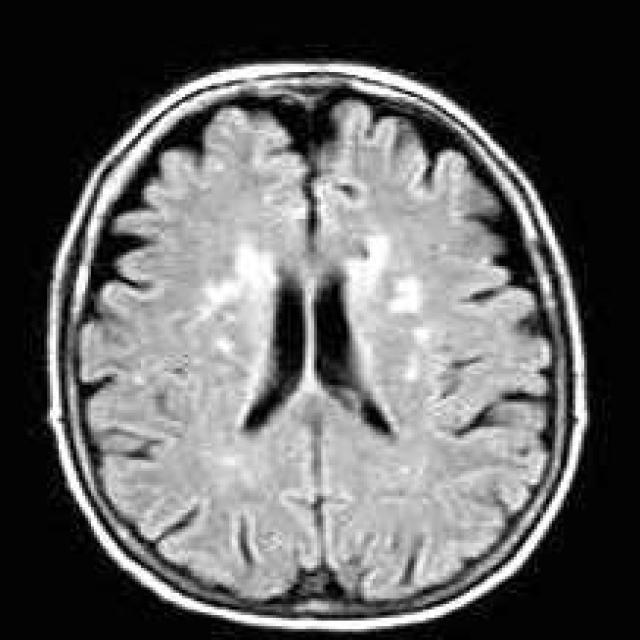notumor: (47, 61, 590, 634)
